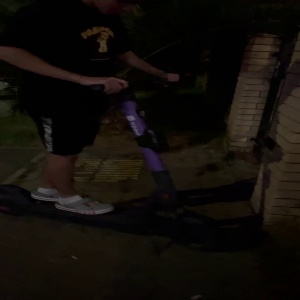human on a scooter: (1, 1, 222, 256)
